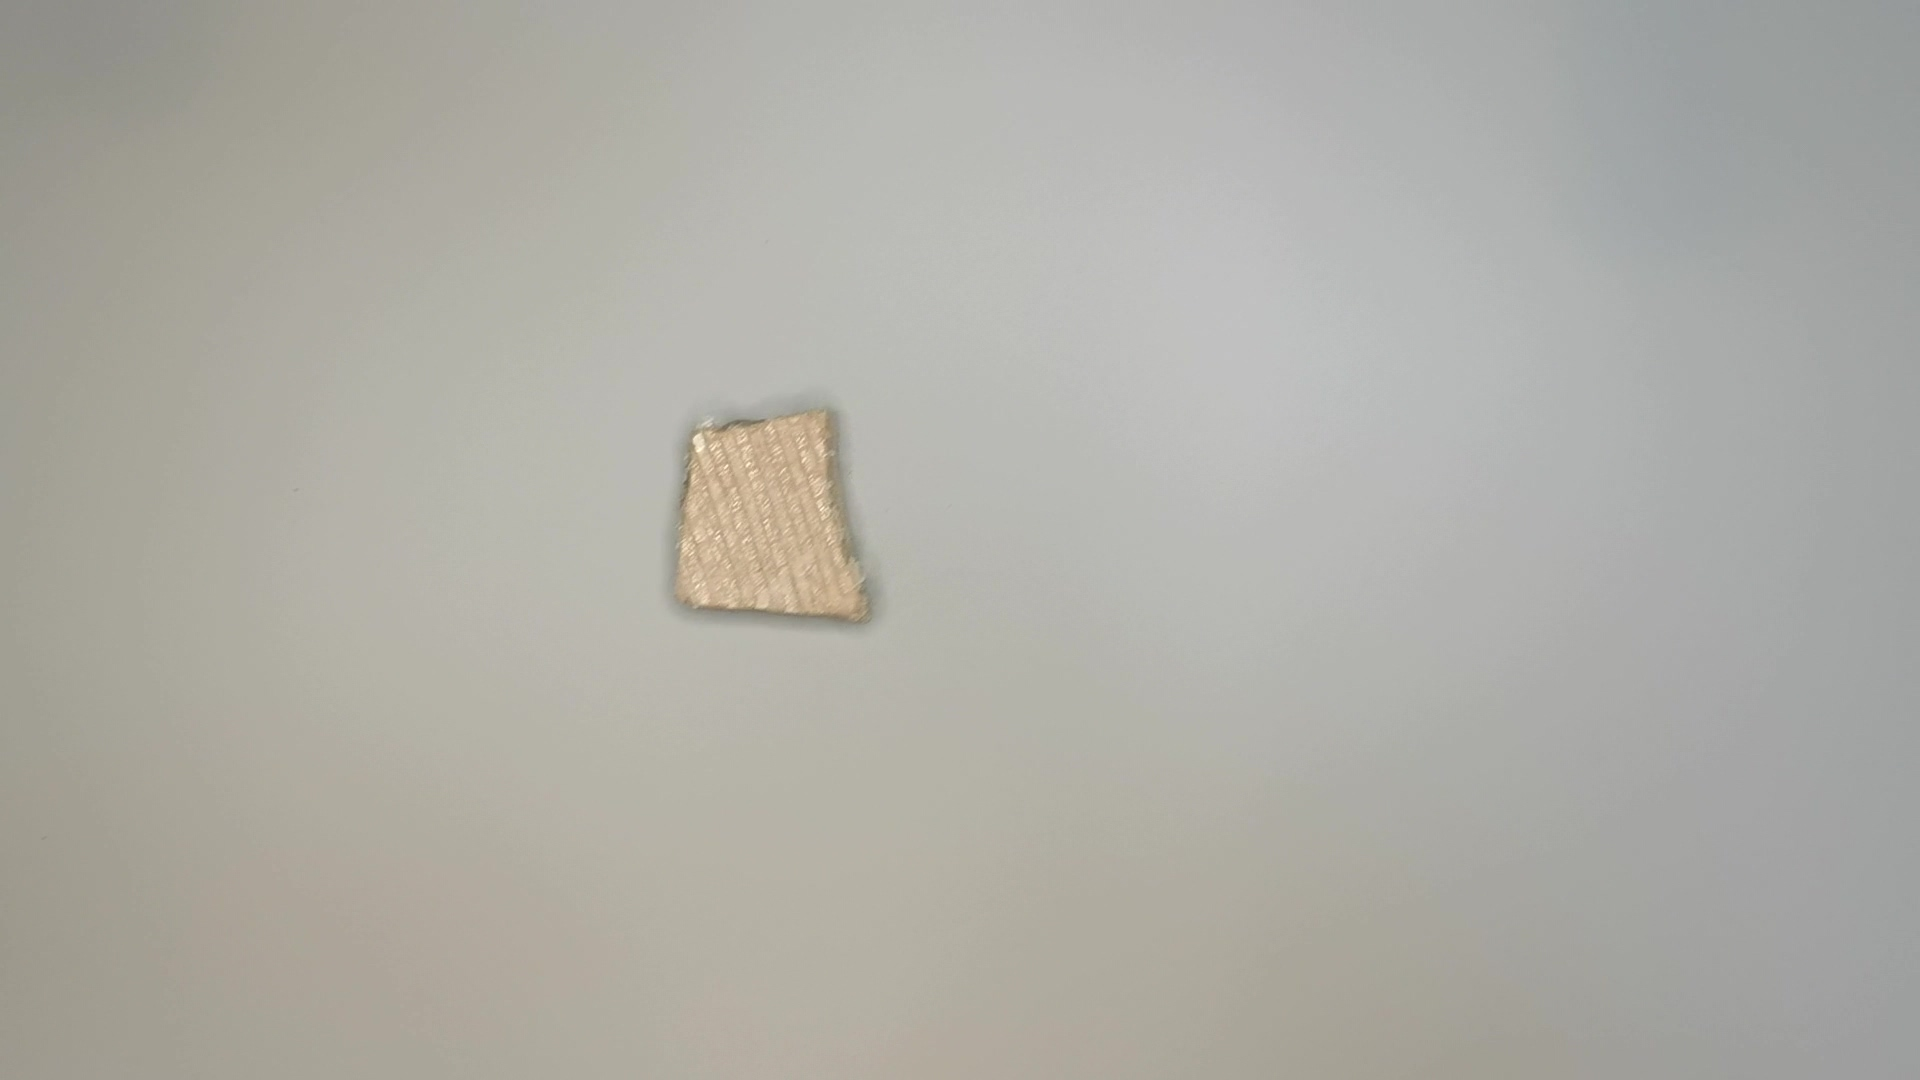ceramic: (665, 402, 887, 632)
